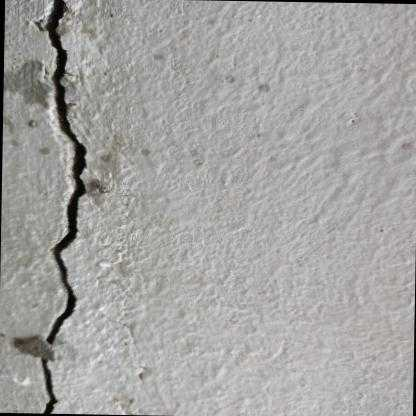crack: (13, 0, 87, 413)
